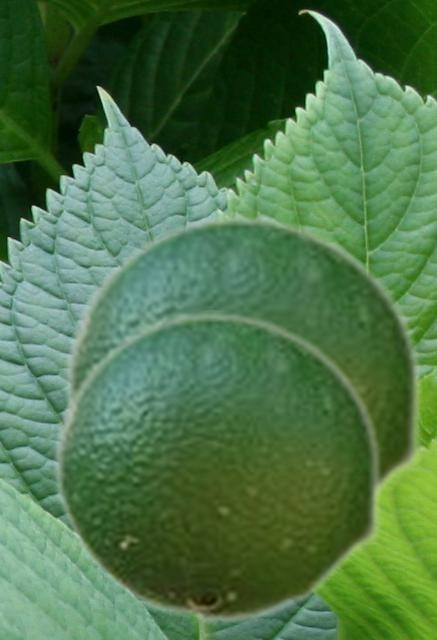dalandan: (52, 310, 382, 625), (63, 213, 423, 501)
